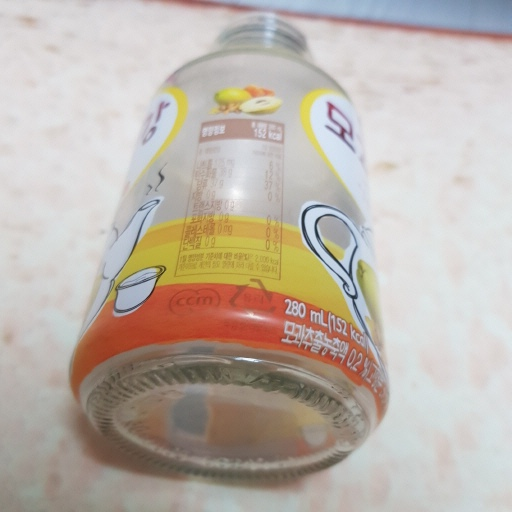Glass_4: (69, 15, 392, 479)
